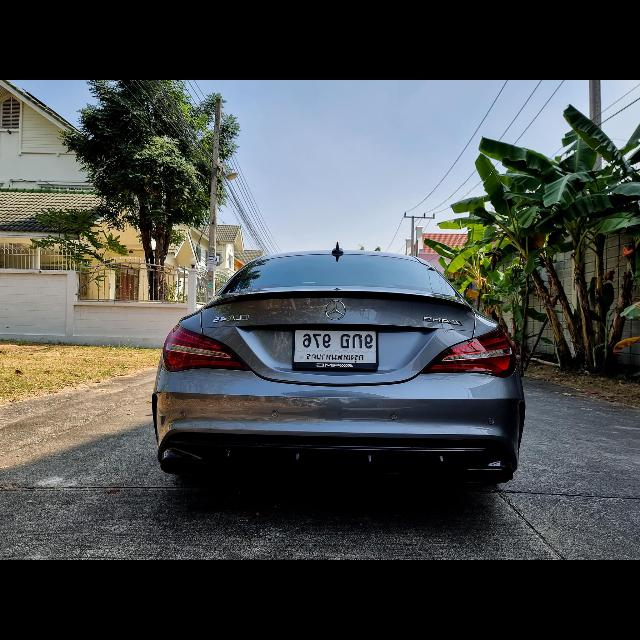cars: (136, 234, 540, 492)
